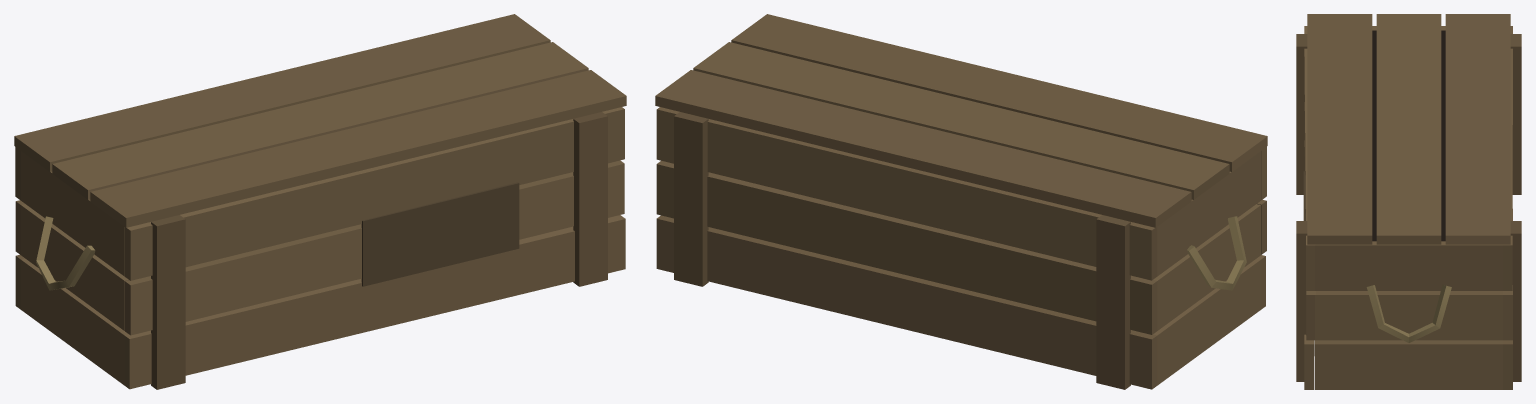
The model's file is cajon_largo.glb.
The picture shows the model from 3 angles, left to right: view 1: azimuth 30°, elevation 25°; view 2: azimuth 150°, elevation 25°; view 3: azimuth 270°, elevation 25°; orthographic projection. The views are drawn at different scales.
Parts seen in each view (by area): view 1: CajonLargo; view 2: CajonLargo; view 3: CajonLargo.
Boxes of the visible parts, box(x1,y1,x2,y2) form: CajonLargo: box(14, 14, 626, 389); CajonLargo: box(655, 14, 1267, 389); CajonLargo: box(1296, 14, 1521, 389).
Size of what is drawn, in the model's own units: 1.04 by 0.318 by 0.412.
